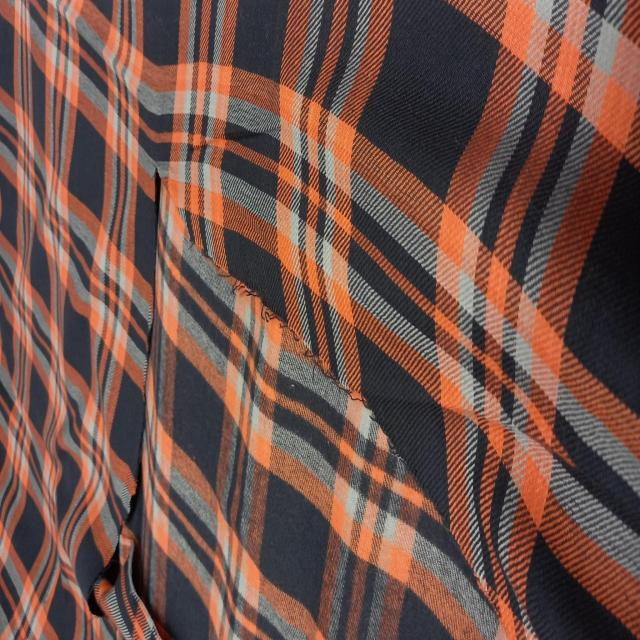cut: (119, 178, 325, 640)
